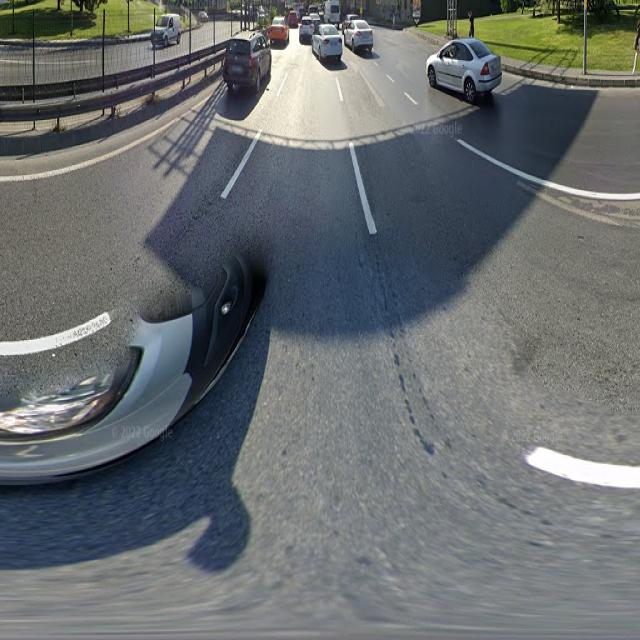Guard rail: (0, 102, 200, 183)
Road: (222, 69, 468, 614), (347, 74, 615, 455), (7, 102, 252, 328), (469, 79, 639, 187)
